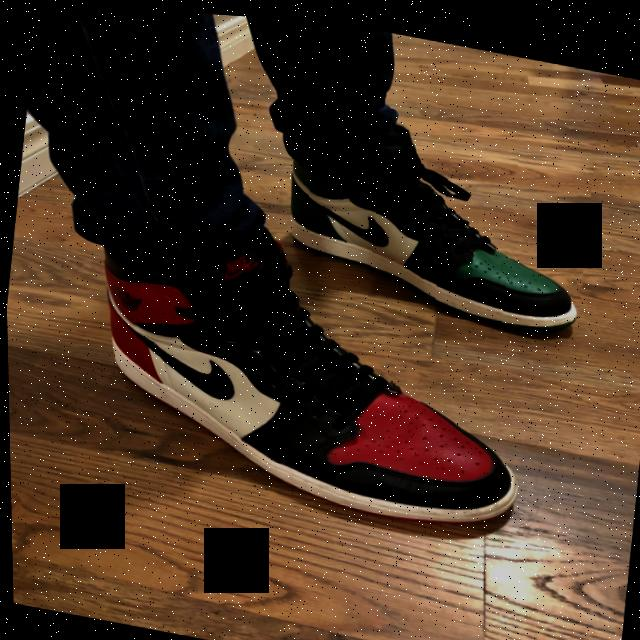shoe: (73, 207, 544, 541), (261, 94, 597, 334)
